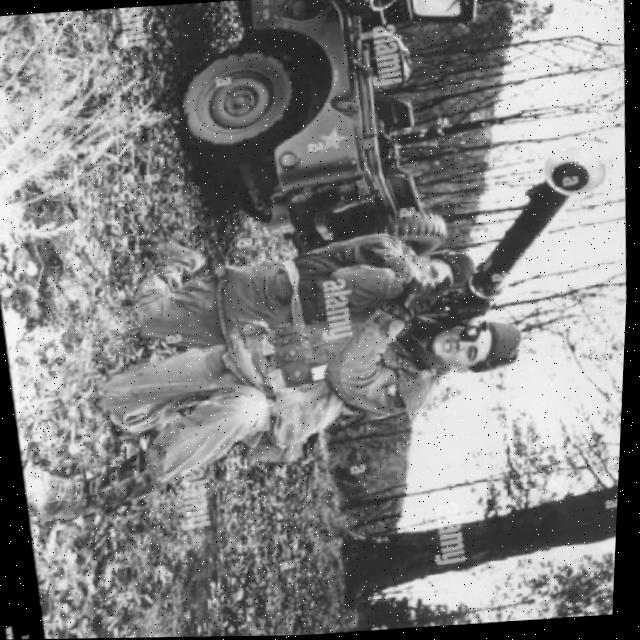rocket: (437, 155, 634, 317)
